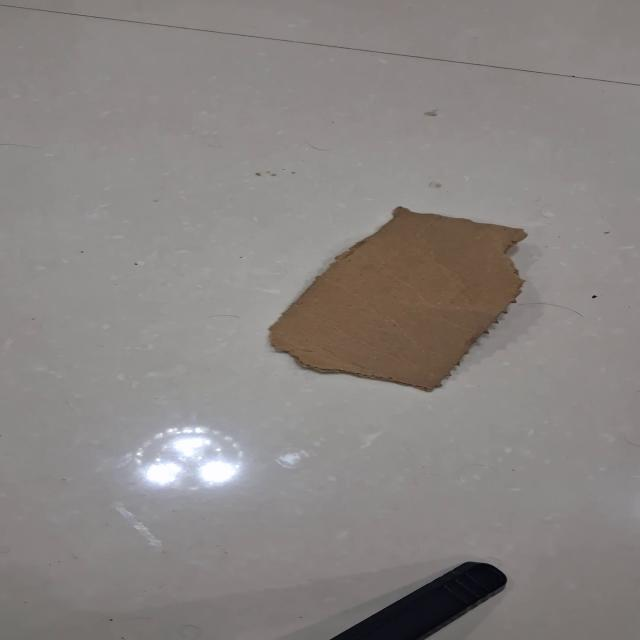paper: (266, 205, 529, 392)
